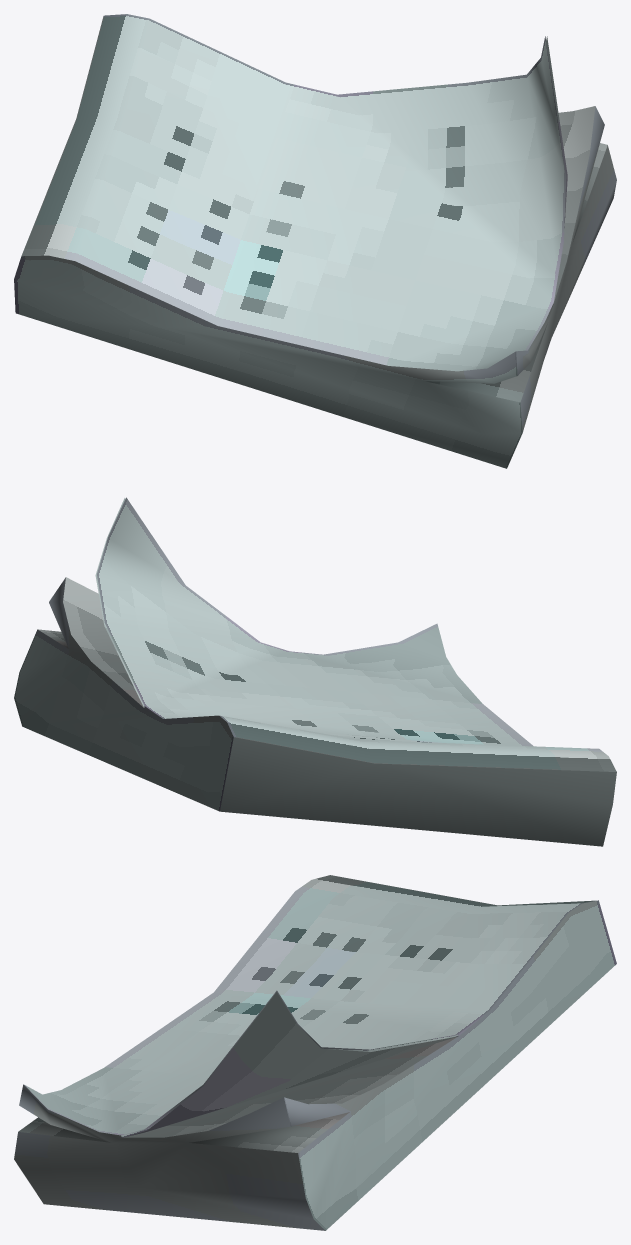
File: fg_paper.dae
3 renders of one model, top to bottom at view 1: azimuth 30°, elevation 25°; view 2: azimuth 150°, elevation 25°; view 3: azimuth 270°, elevation 25°, orthographic. The views are drawn at different scales.
Parts seen in each view (by area): view 1: _0_0; view 2: _0_0; view 3: _0_0.
Boxes of the visible parts, x1,y1,x2,y2 form: _0_0: (14, 14, 616, 468); _0_0: (14, 497, 616, 846); _0_0: (14, 875, 616, 1230).
Size of the model in its own units: 18.73 by 9.3 by 17.61.
1 material, 1 textured.
